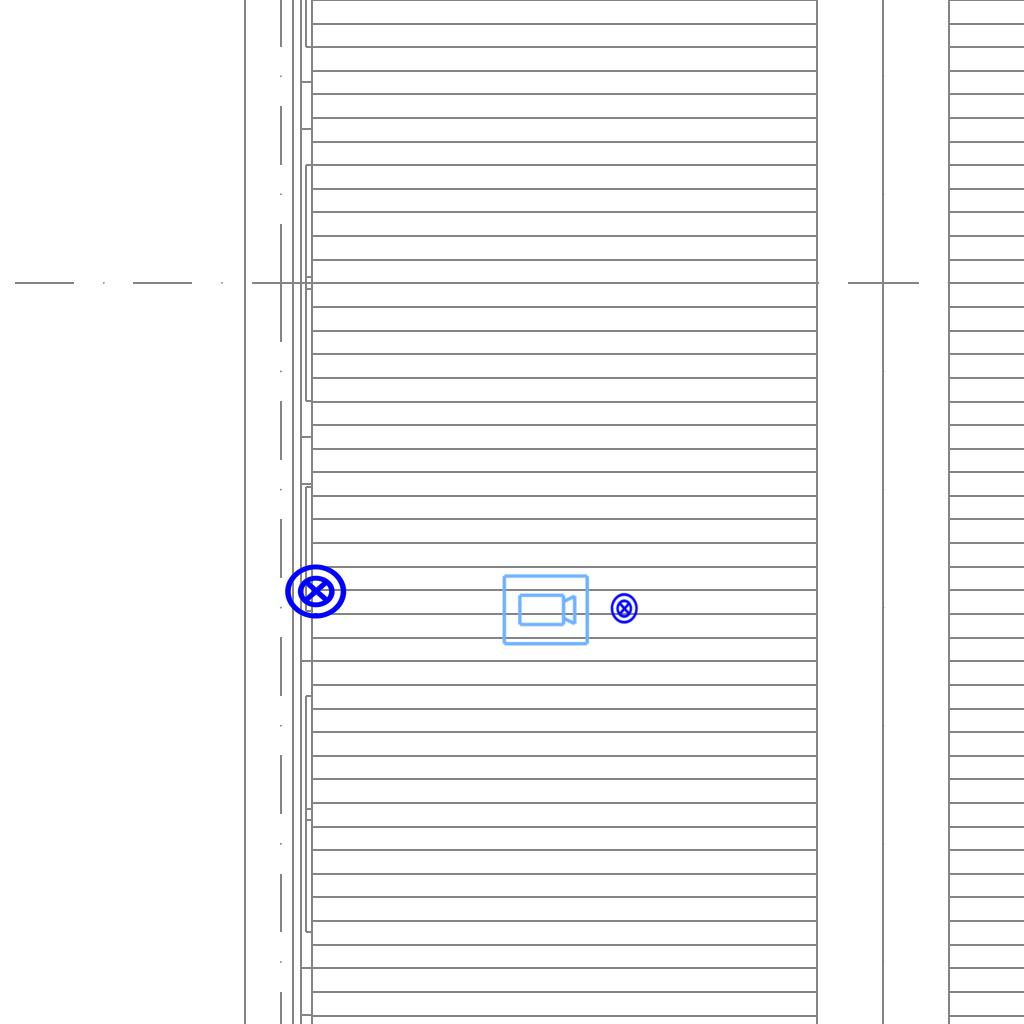KFO_Kamera_mit_Festobjektiv: (500, 572, 591, 649)
Taster_beleuchtet: (283, 558, 349, 624), (608, 592, 641, 625)
